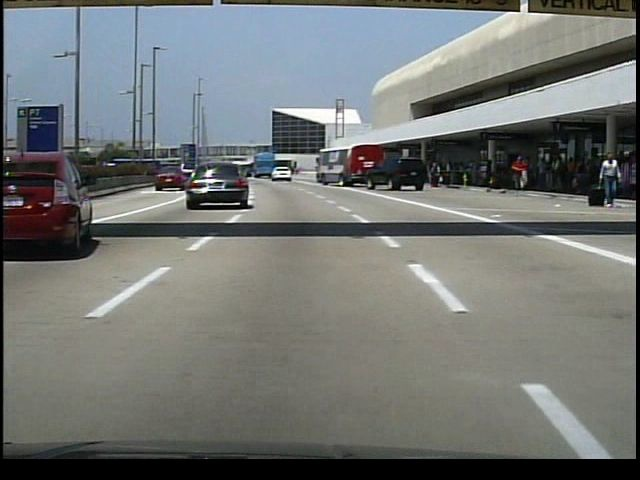person: (596, 152, 619, 209), (508, 153, 528, 192), (572, 157, 588, 194), (549, 152, 562, 190), (428, 161, 441, 189), (483, 158, 495, 187)
